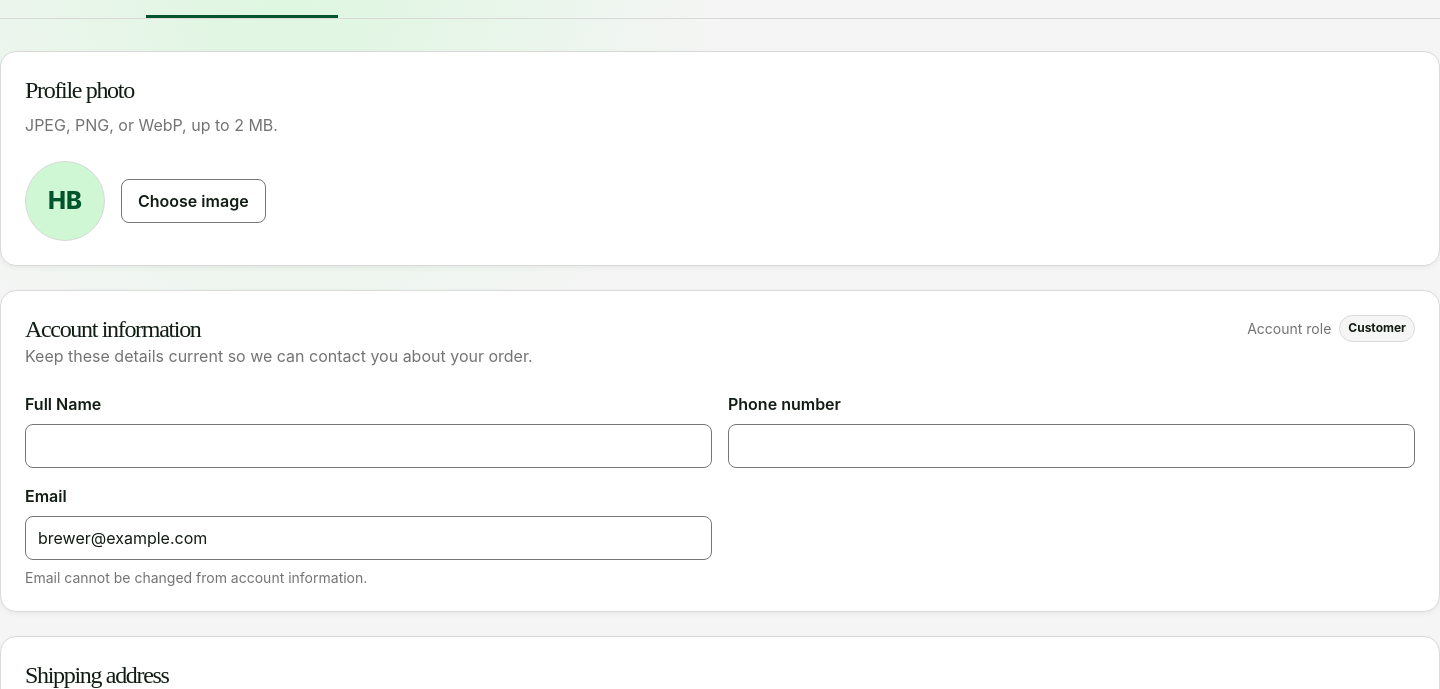
Test case: AccountProfileForm › keeps phone input exact and saves the self profile with intentional null address fields
Check: the text "Customer" is shown, box 1339,315 -> 1415,342
Check: the field labelled "Email" holds "brewer@example.com", box 25,516 -> 712,560
In the field labelled "Full Name": (368, 446) 25,424 -> 712,468, type "Local Brewer"
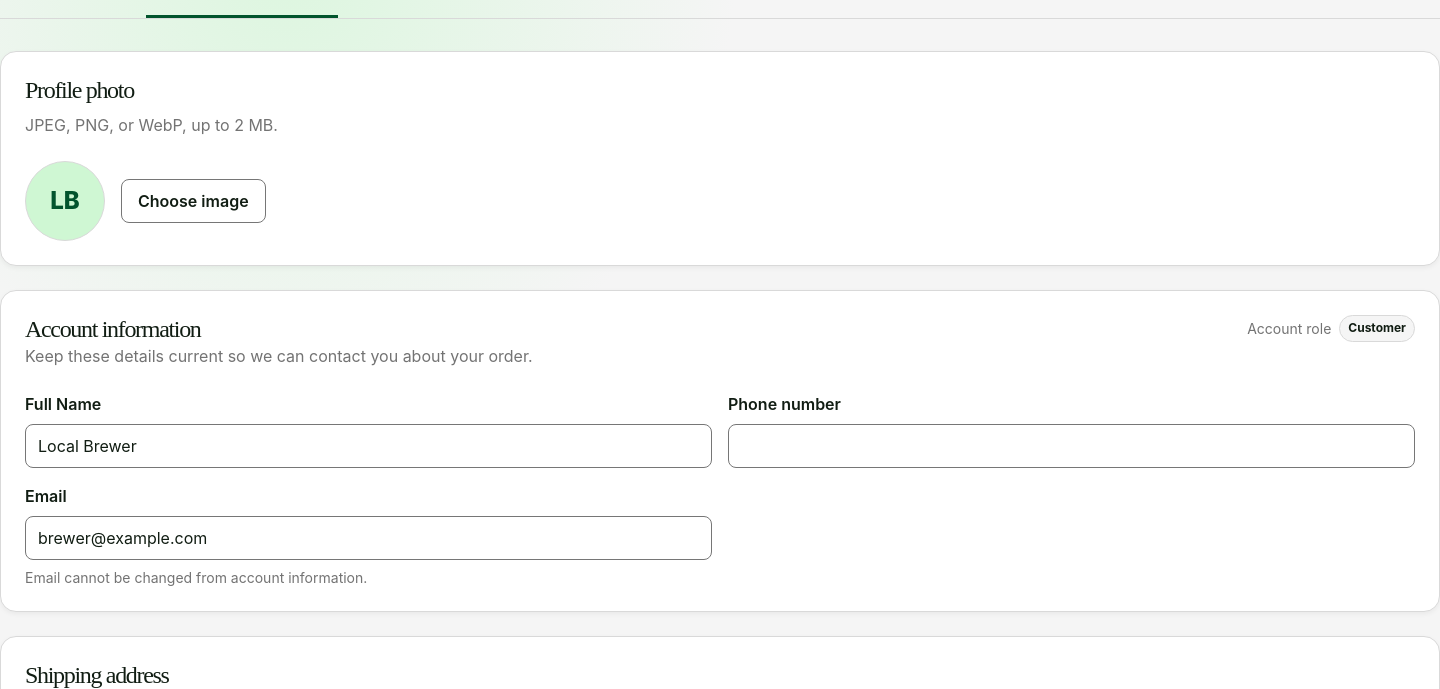
In the field labelled "Phone number": (1072, 446) 728,424 -> 1415,468, type "+34 600 123 456"
(page scrolled)
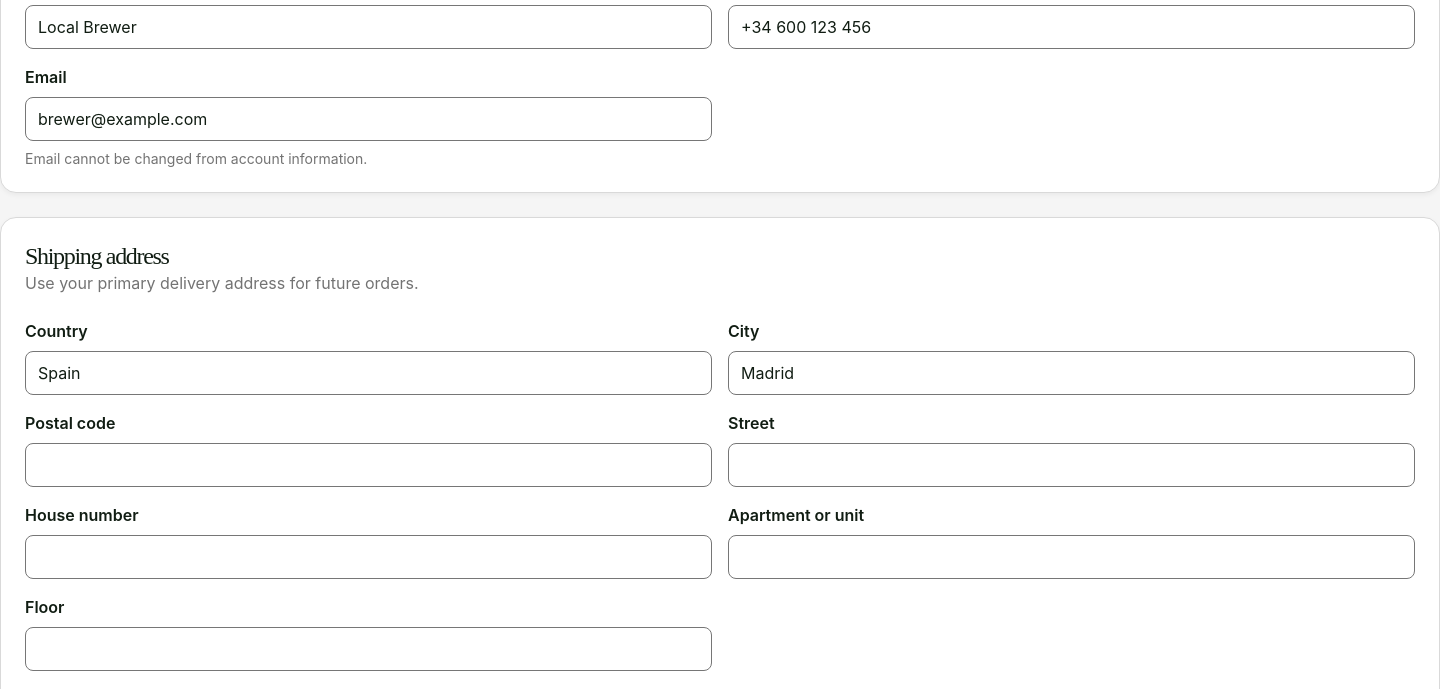
Clear the field labelled "City": (1072, 373) 728,351 -> 1415,395
(page scrolled)
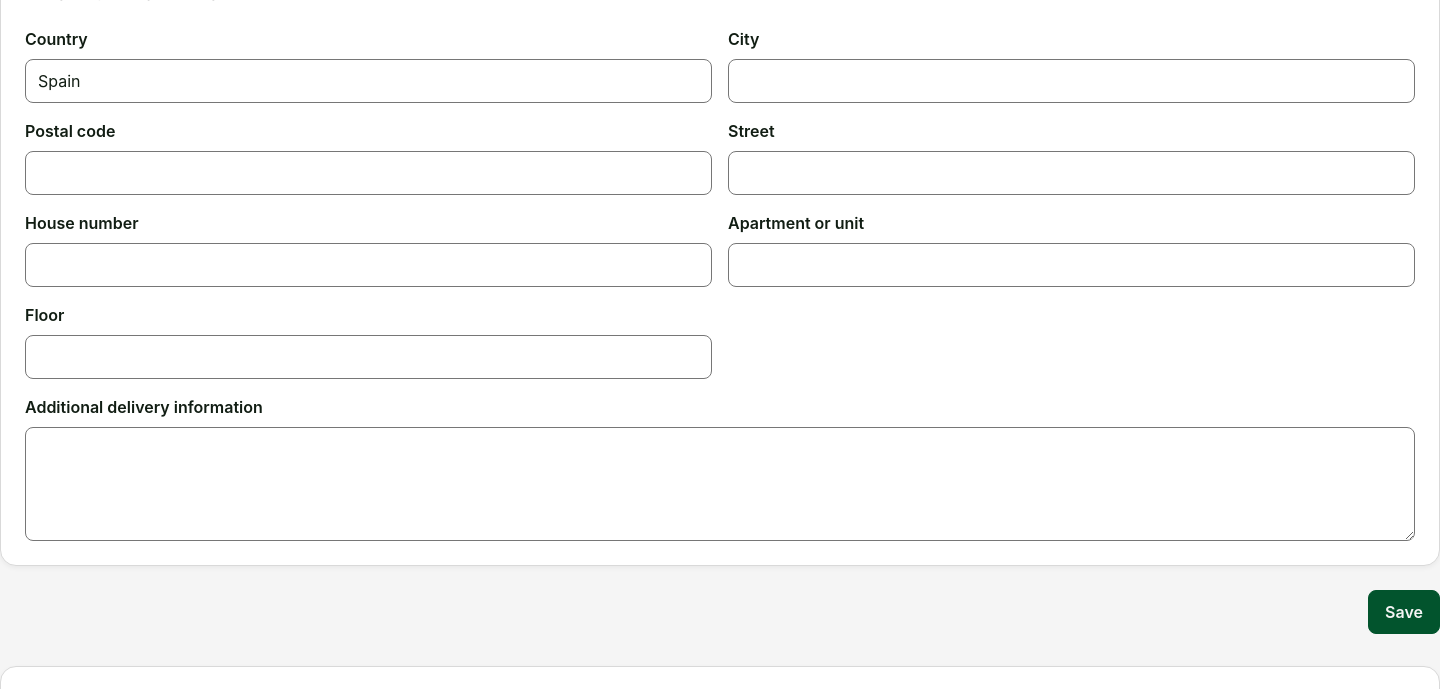
Click the button "Save": (1404, 612) 1368,590 -> 1439,634
(page scrolled)
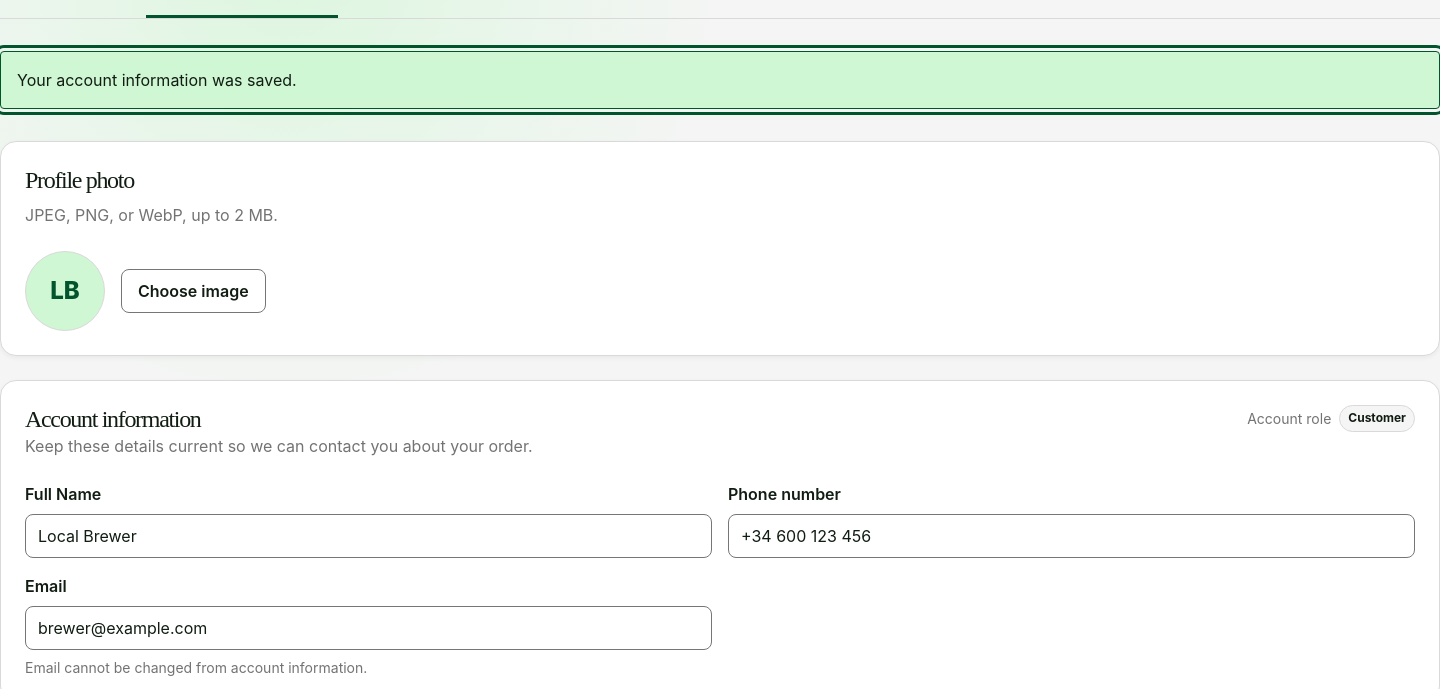
Check: the text "Your account information was saved." is shown, box 0,51 -> 1439,109
